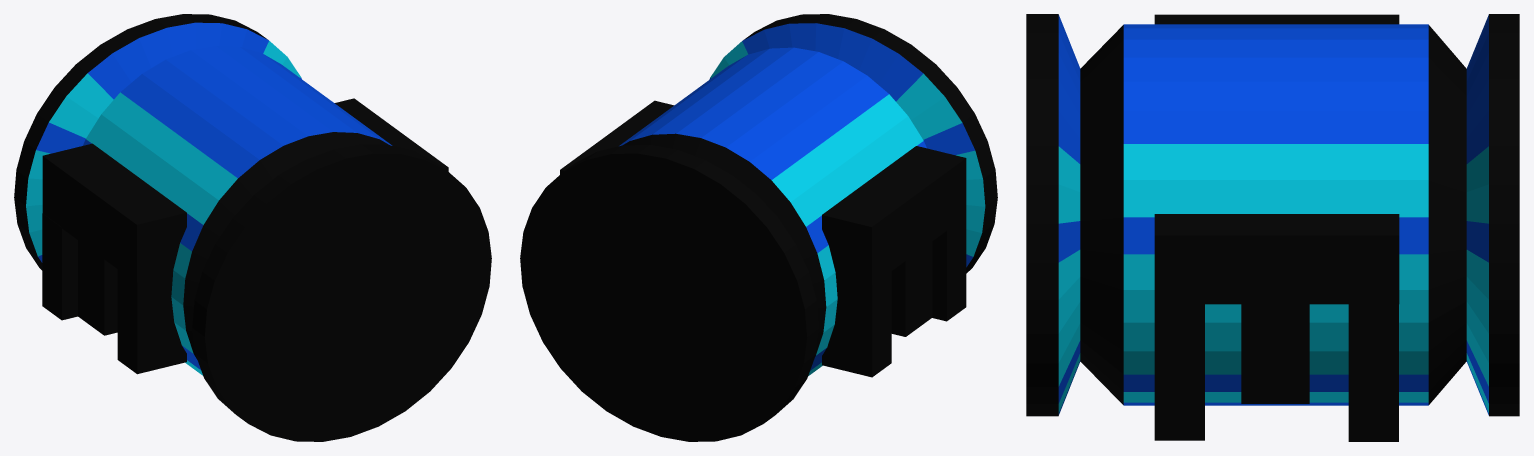
The model's file is Egirl.fbx.
3 renders of one model, left to right at view 1: azimuth 30°, elevation 25°; view 2: azimuth 150°, elevation 25°; view 3: azimuth 270°, elevation 25°, orthographic. The views are drawn at different scales.
Parts seen in each view (by area): view 1: Cube.010; view 2: Cube.010; view 3: Cube.010.
Boxes of the visible parts, bbox=[...] form: Cube.010: bbox=[14, 14, 491, 441]; Cube.010: bbox=[520, 14, 997, 441]; Cube.010: bbox=[1026, 14, 1519, 441].
Bounding box in the file's own units: 294 × 252 × 312.
